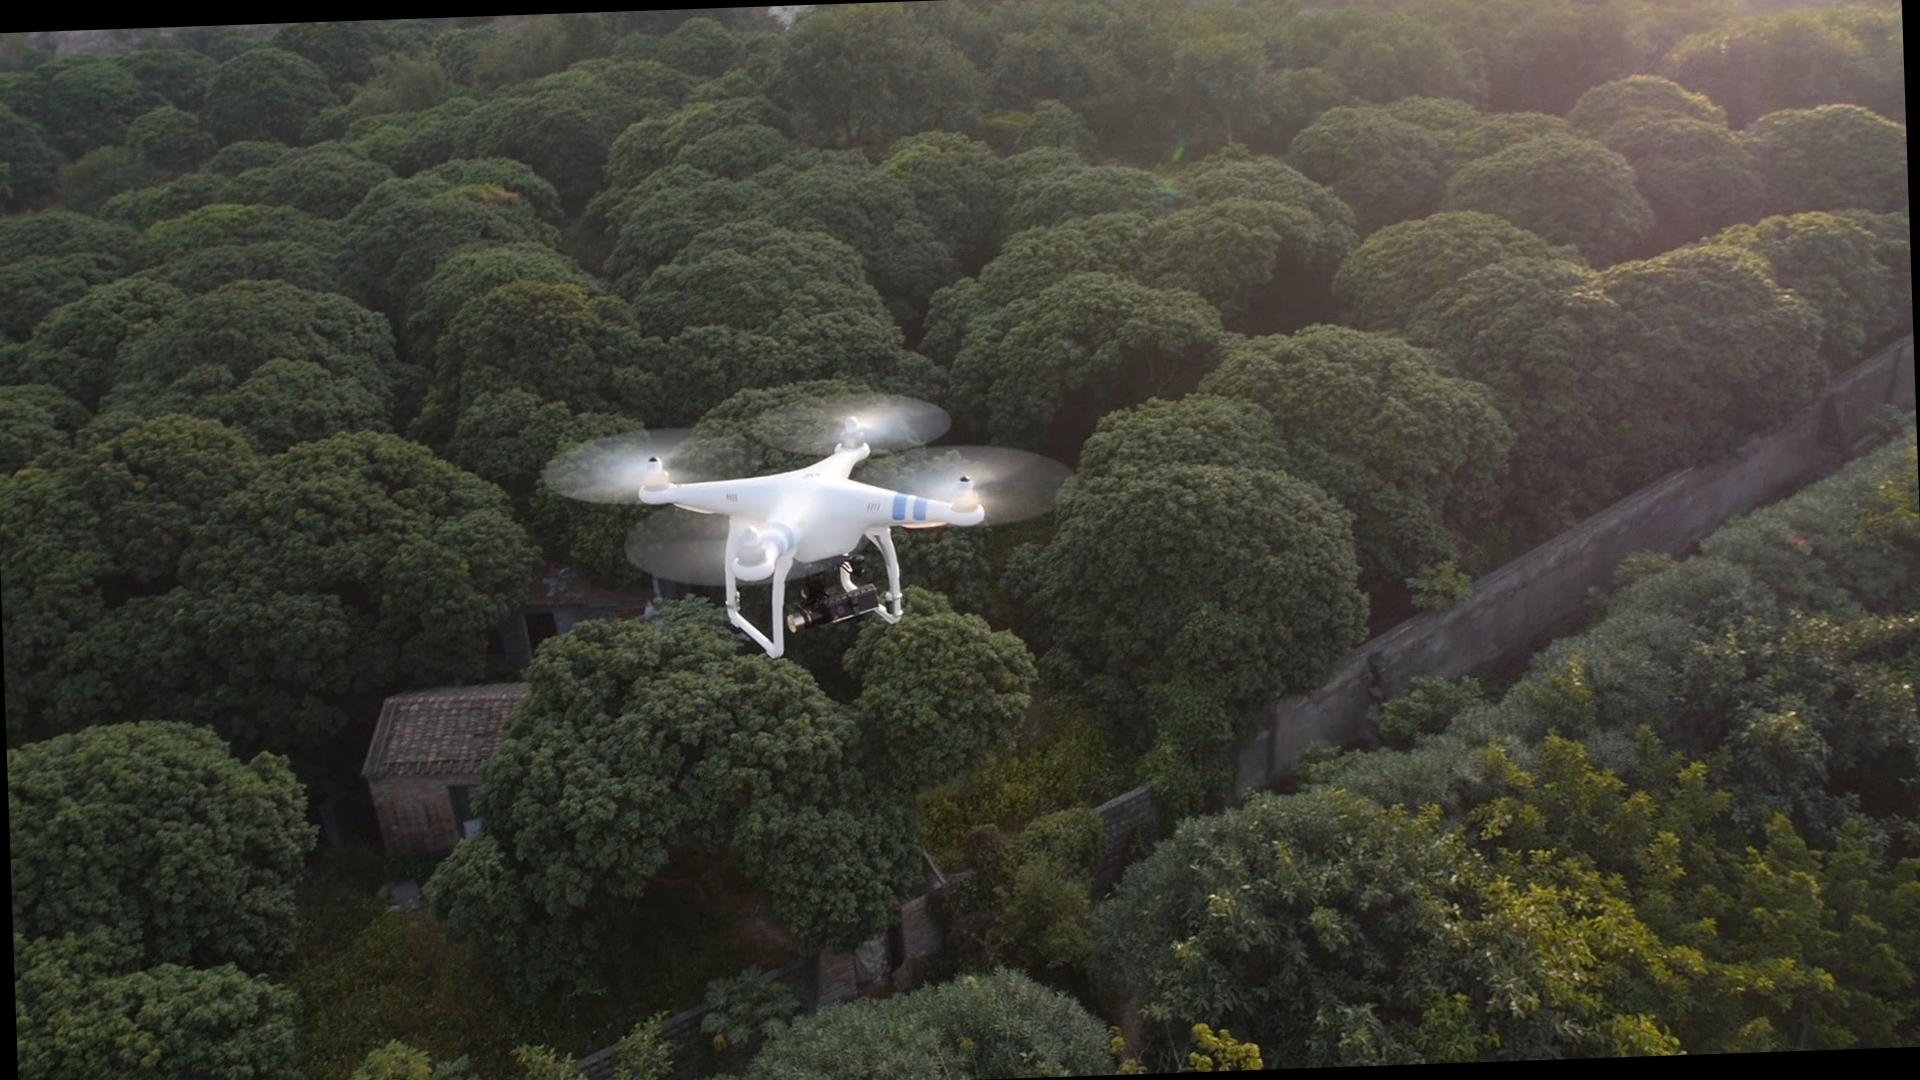drone: (564, 389, 1042, 666)
